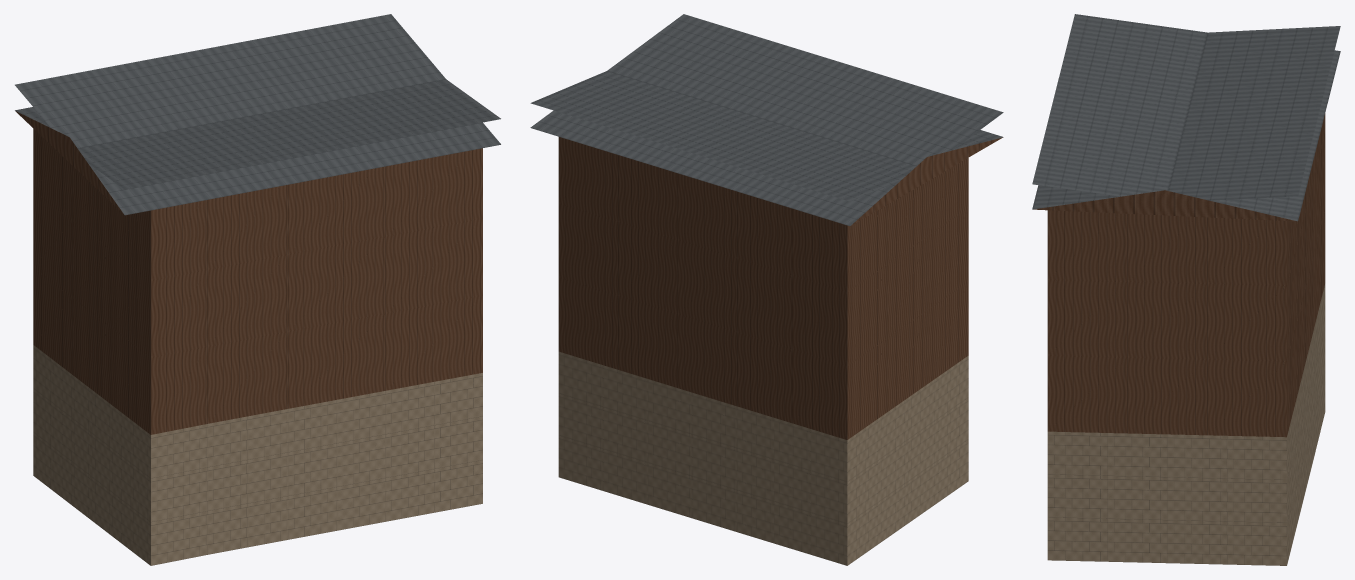
Rendered from bld_c9_16_453.gltf.
The picture shows the model from 3 angles, left to right: view 1: azimuth 30°, elevation 25°; view 2: azimuth 150°, elevation 25°; view 3: azimuth 270°, elevation 25°; orthographic projection. The views are drawn at different scales.
Parts seen in each view (by area): view 1: bld_c9_16_453; view 2: bld_c9_16_453; view 3: bld_c9_16_453.
Part boxes in pixels (bbox=[...]): bld_c9_16_453: bbox=[15, 14, 500, 565]; bld_c9_16_453: bbox=[530, 14, 1003, 565]; bld_c9_16_453: bbox=[1032, 14, 1340, 565].
Bounding box in the file's own units: 15.48 × 15.1 × 11.08.
4 materials, 4 textured.
